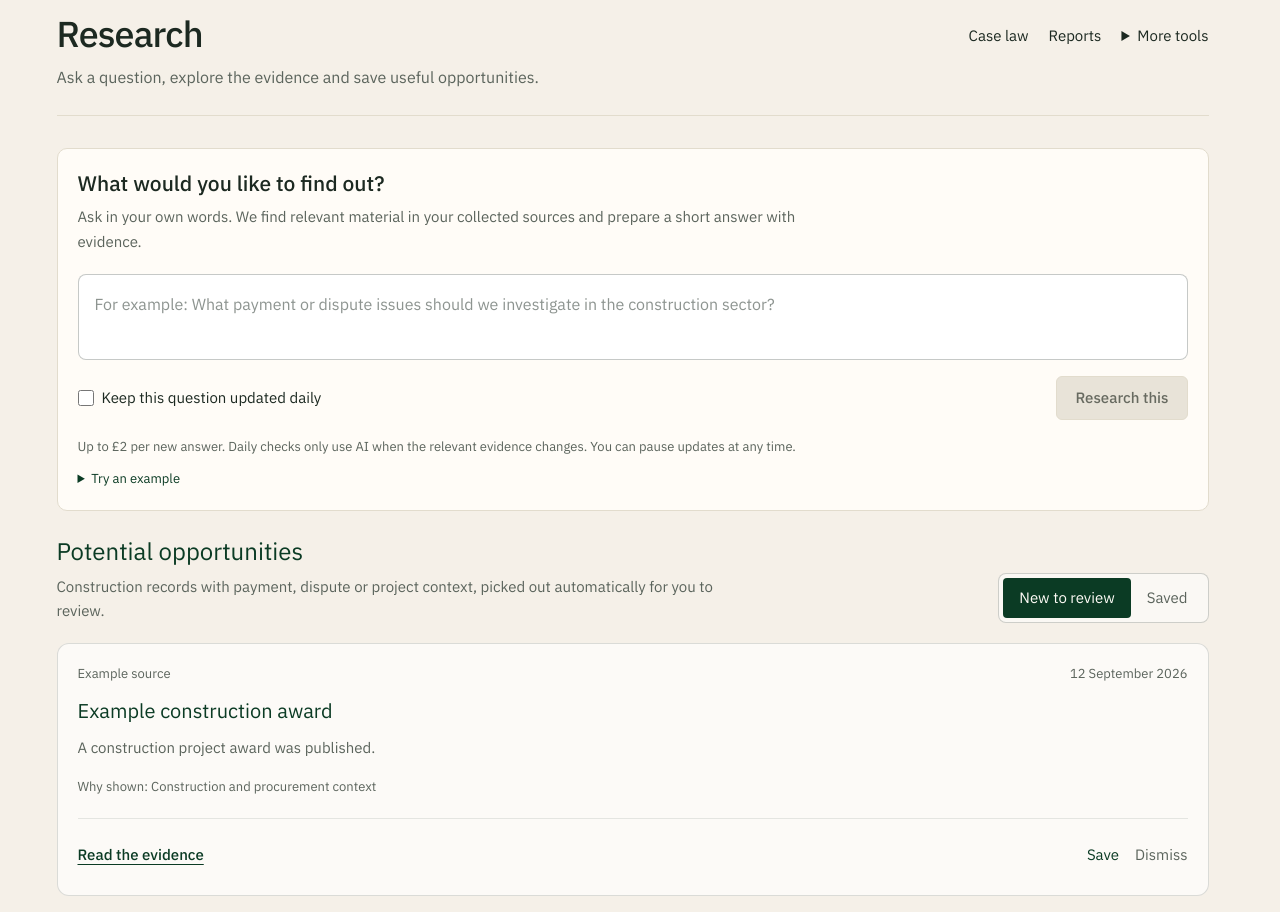
Test case: saves and dismisses records and loads the saved view
Expected: the heading "Example construction award" is shown, [78,697,333,724]
Click the button "Save": (1103,855) [1087,835,1119,875]
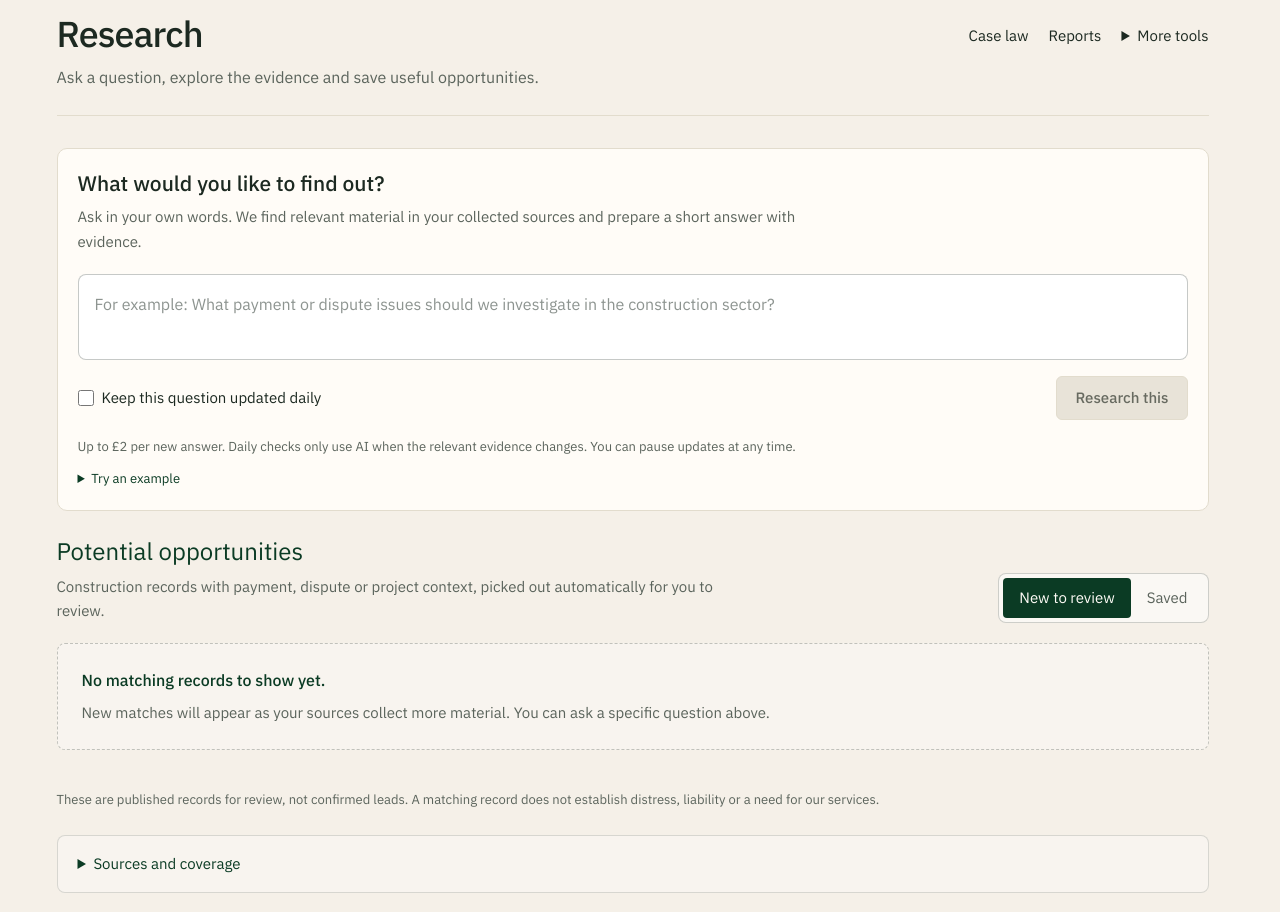
Now the text "No matching records to show yet." is shown, box [82,670,326,690]
Click the button "Saved": (1167,598) [1131,578,1204,618]
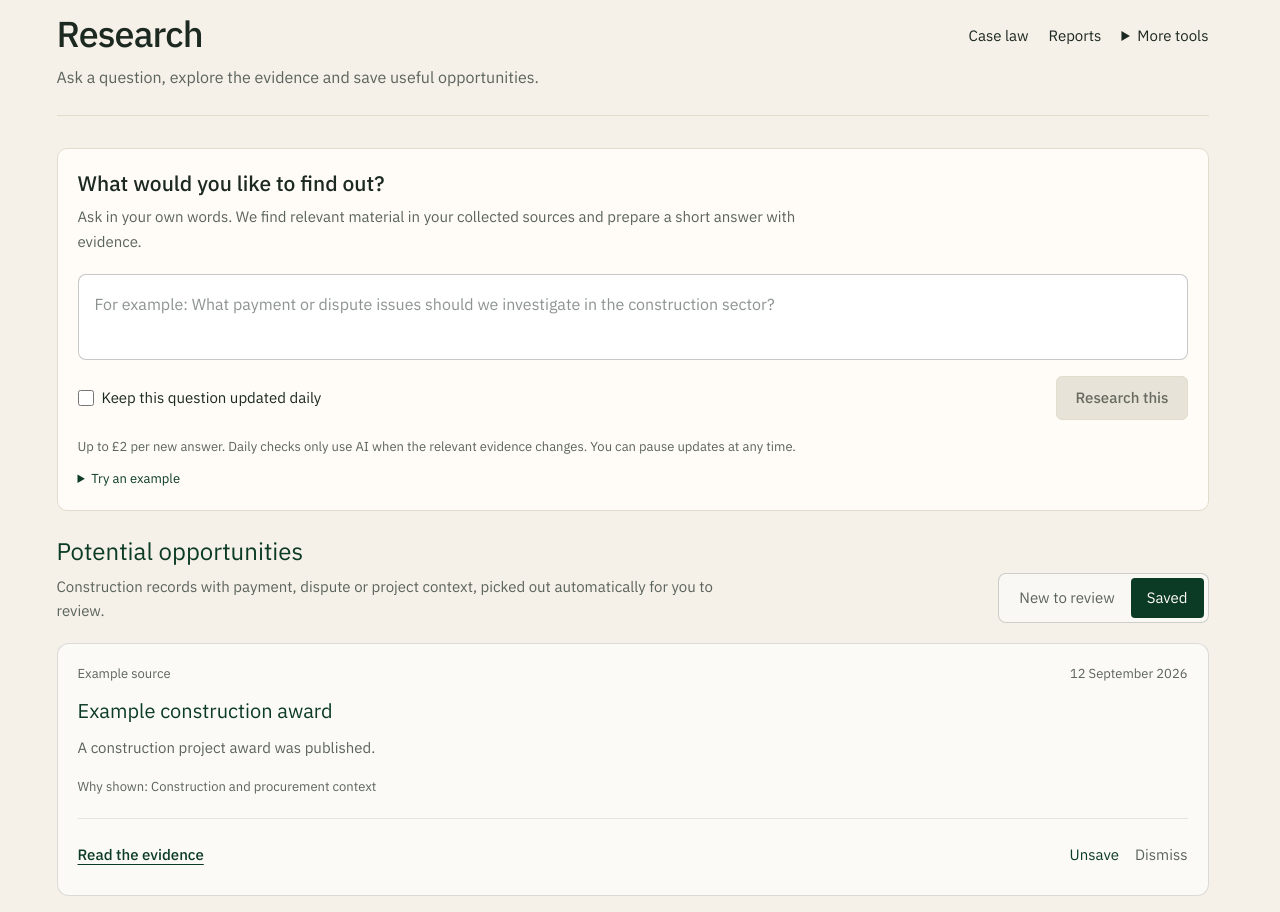
Now the heading "Example construction award" is shown, box [78,697,333,724]
Click the button "Dismiss": (1161,855) [1135,835,1188,875]
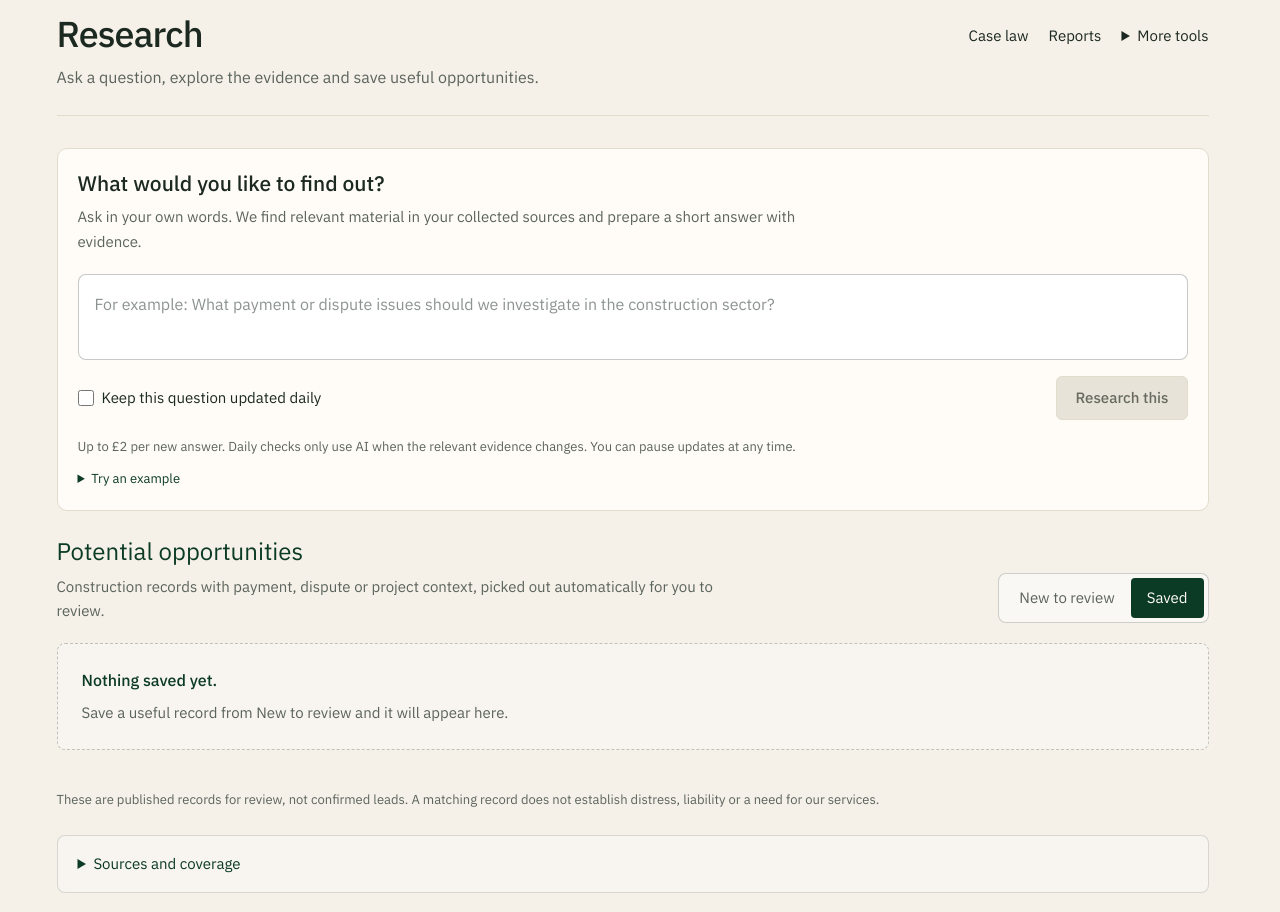
Now the text "Nothing saved yet." is shown, box [82,670,217,690]
